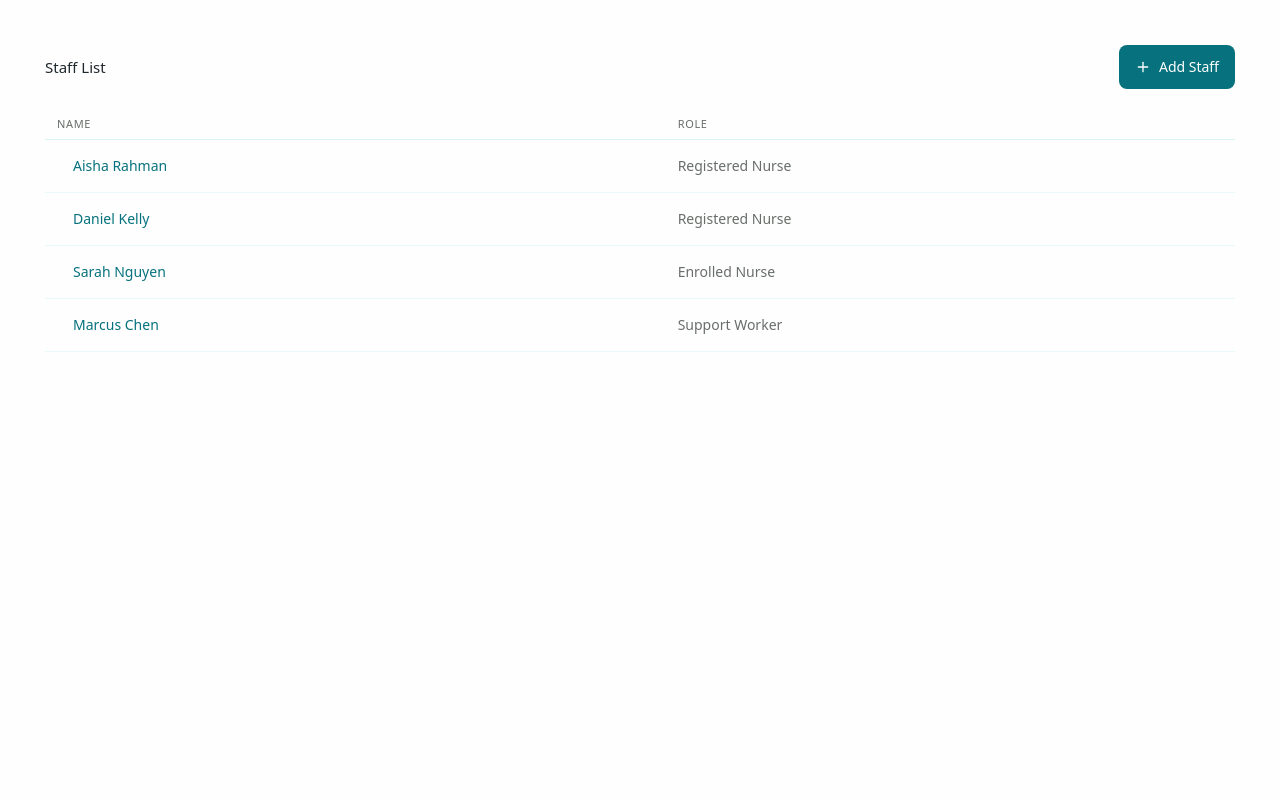
Admin Staff › [ADM-02][AC-01] a failed save shows the server's message and adds no row
The image size is (1280, 800).
Click the button "Add Staff" at (1177, 67), box [1119,45,1235,89]
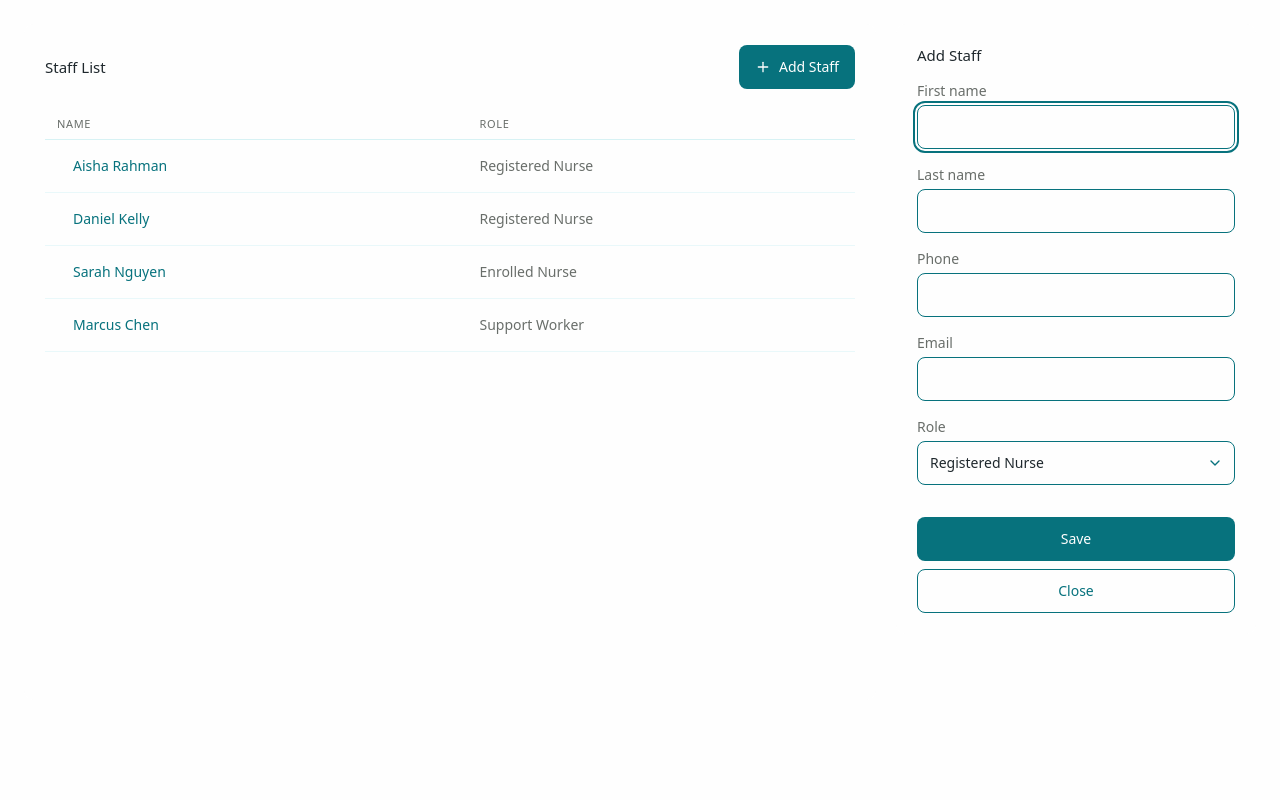
Type "Helen" into the field labelled "First name" at (1076, 127), box [917,105,1235,149]
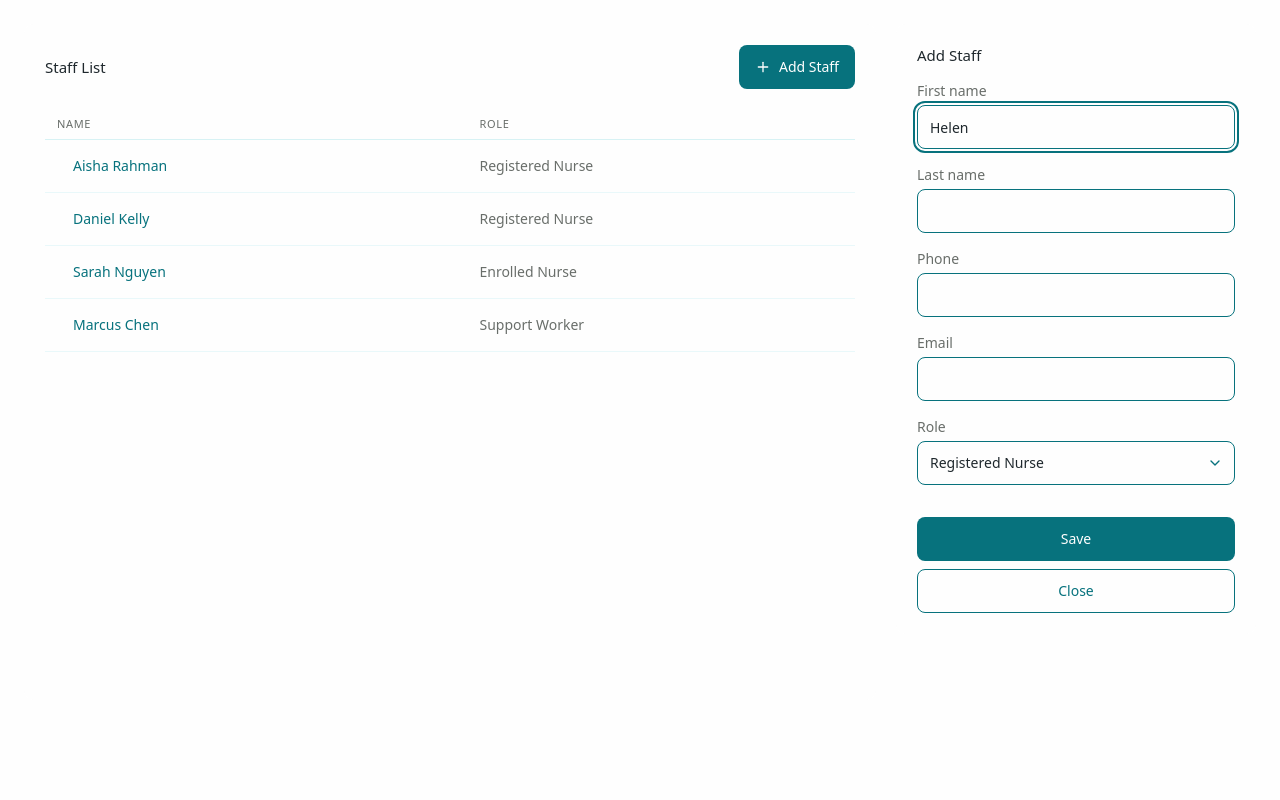
Type "Brown" into the field labelled "Last name" at (1076, 211), box [917,189,1235,233]
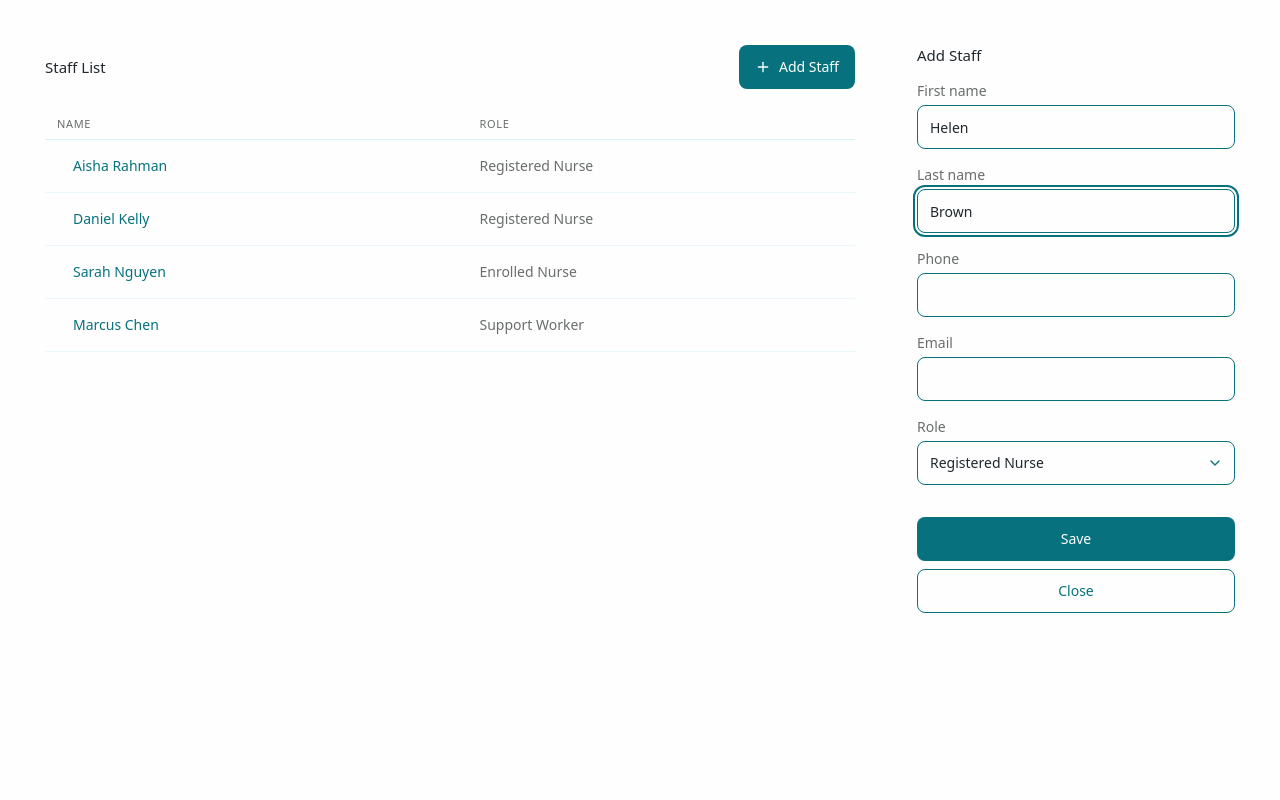
Type "helen.brown@example.com" into the field labelled "Email" at (1076, 379), box [917,357,1235,401]
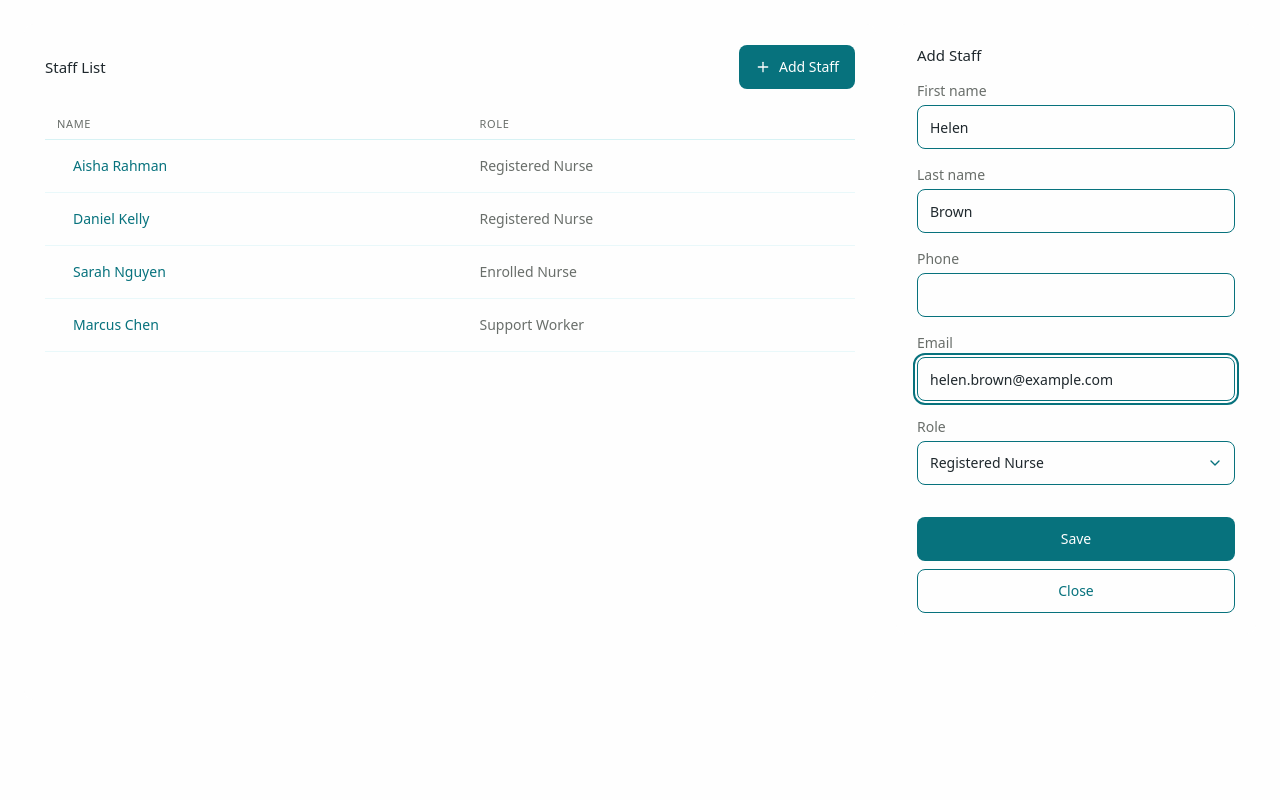
Type "0412 345 678" into the field labelled "Phone" at (1076, 295), box [917,273,1235,317]
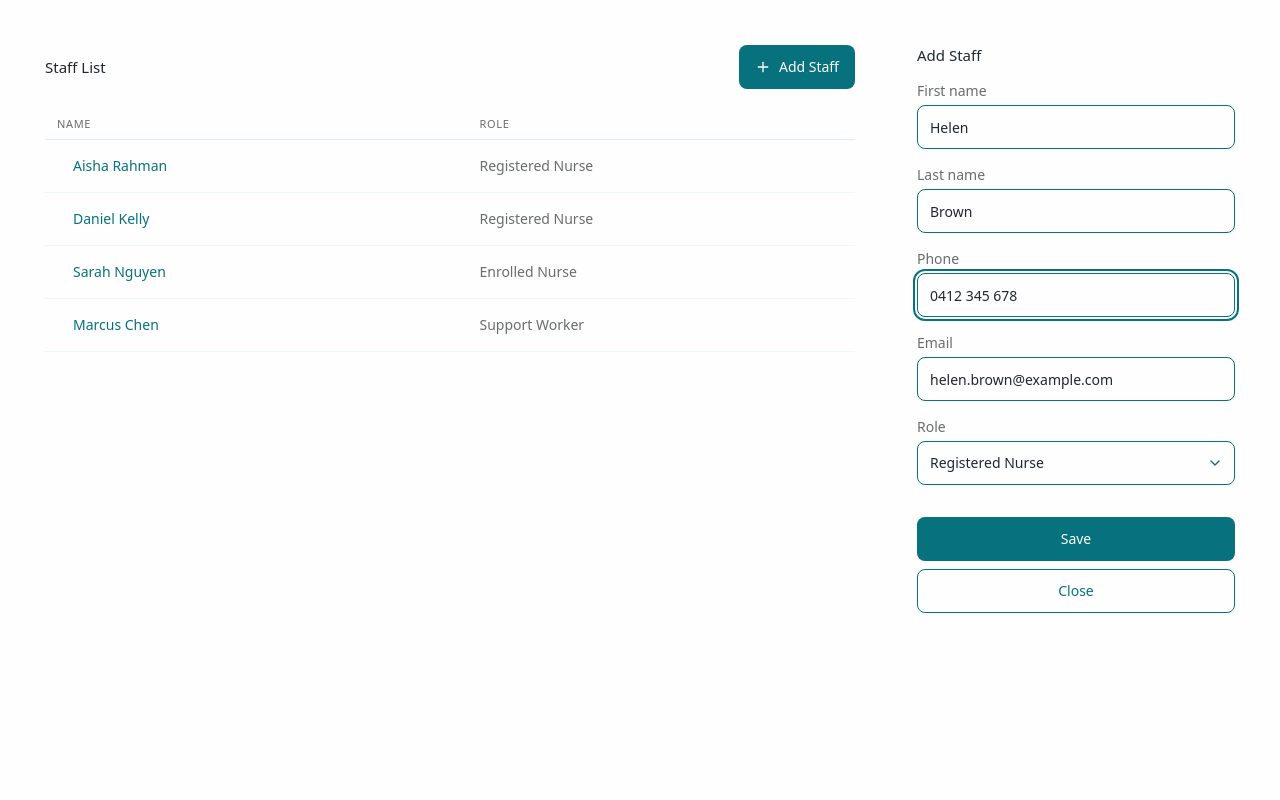
Click the button "Save" at (1076, 539), box [917,517,1235,561]
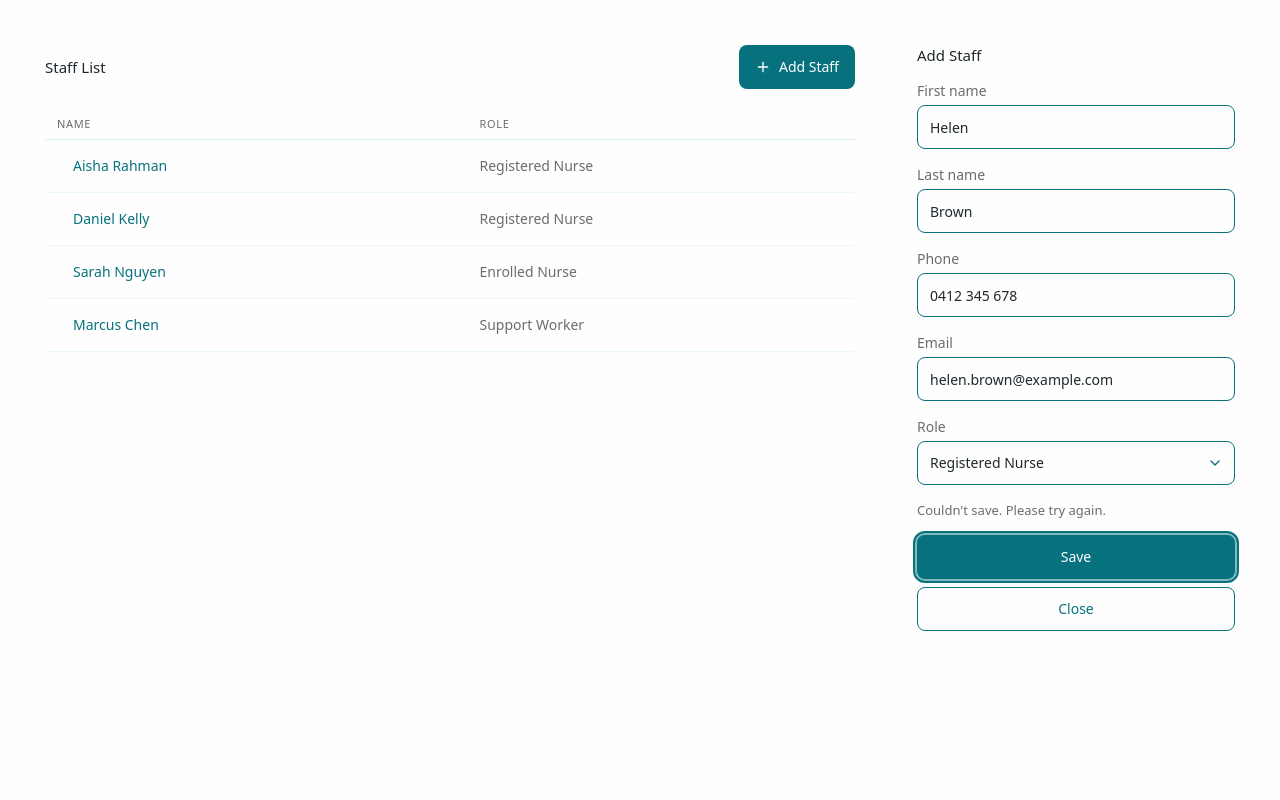
Result: the message reads "Couldn't save. Please try again." at [917,501,1106,519]
